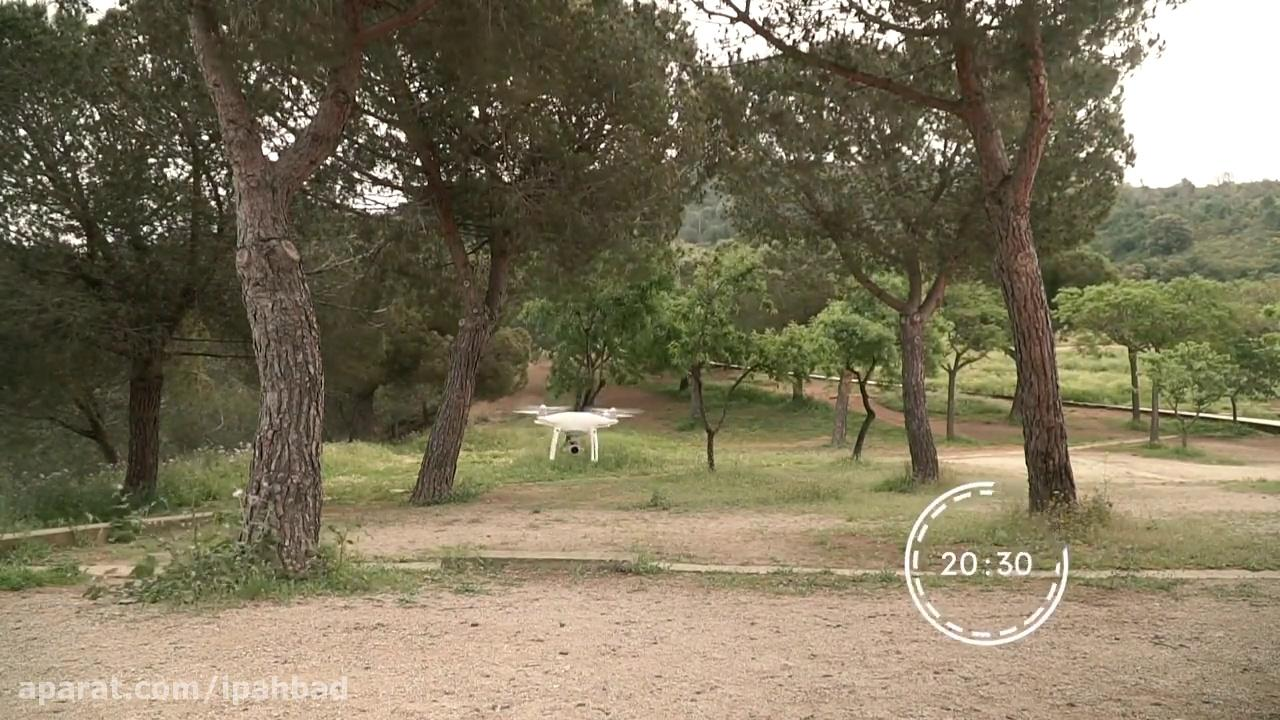drone: (509, 398, 650, 468)
